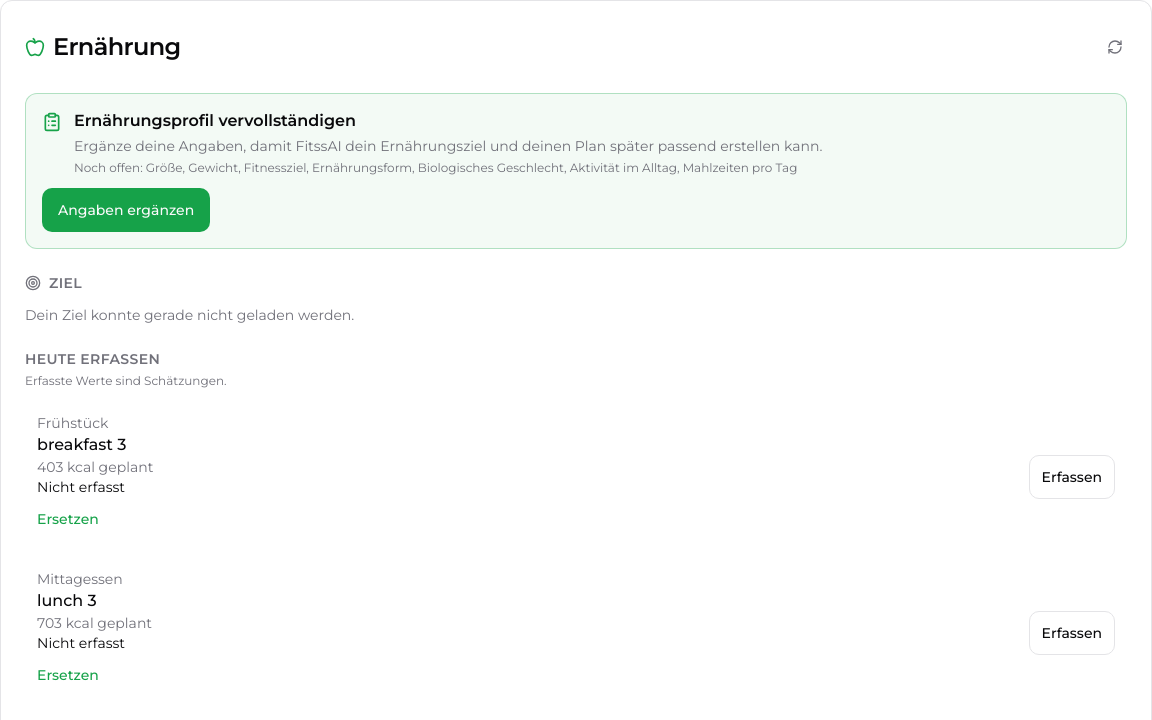
Test: the replacement surface › never shows a replacement the server did not store: the row follows the refetched head, not the answer
Click the button "Ersetzen" below "703 kcal geplant" at (68, 675), box [25,653,111,697]
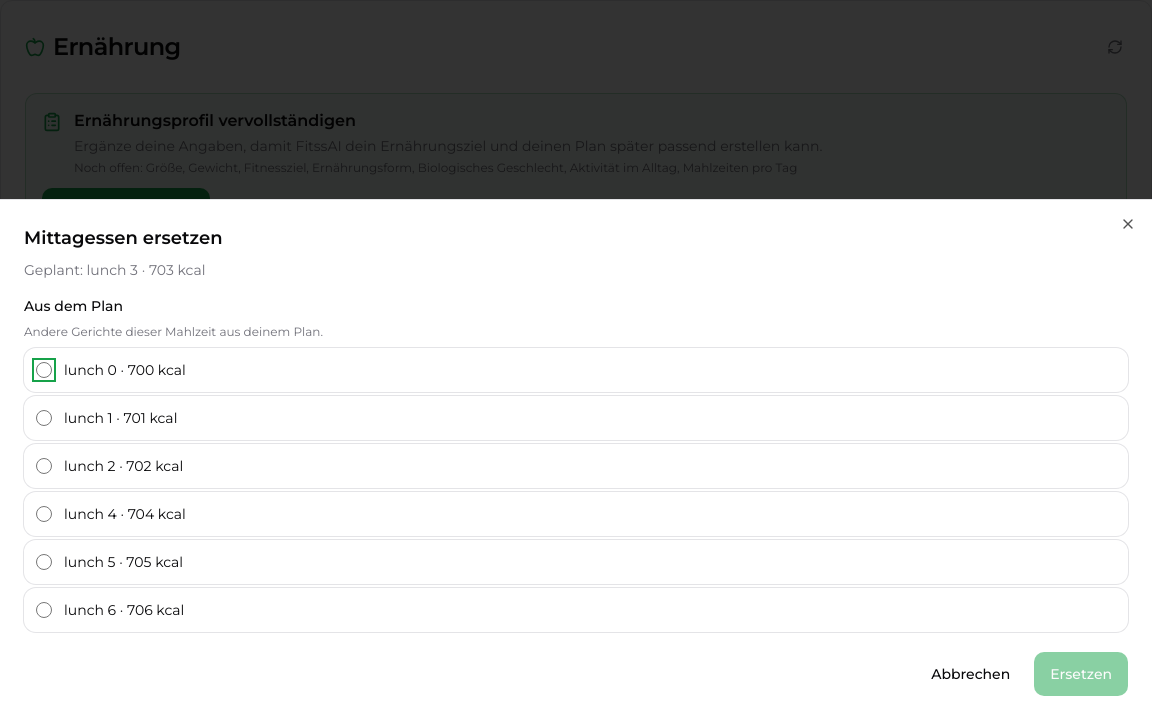
Click the radio button labelled "lunch 5 · 705 kcal" at (44, 562), box [36,554,52,570]
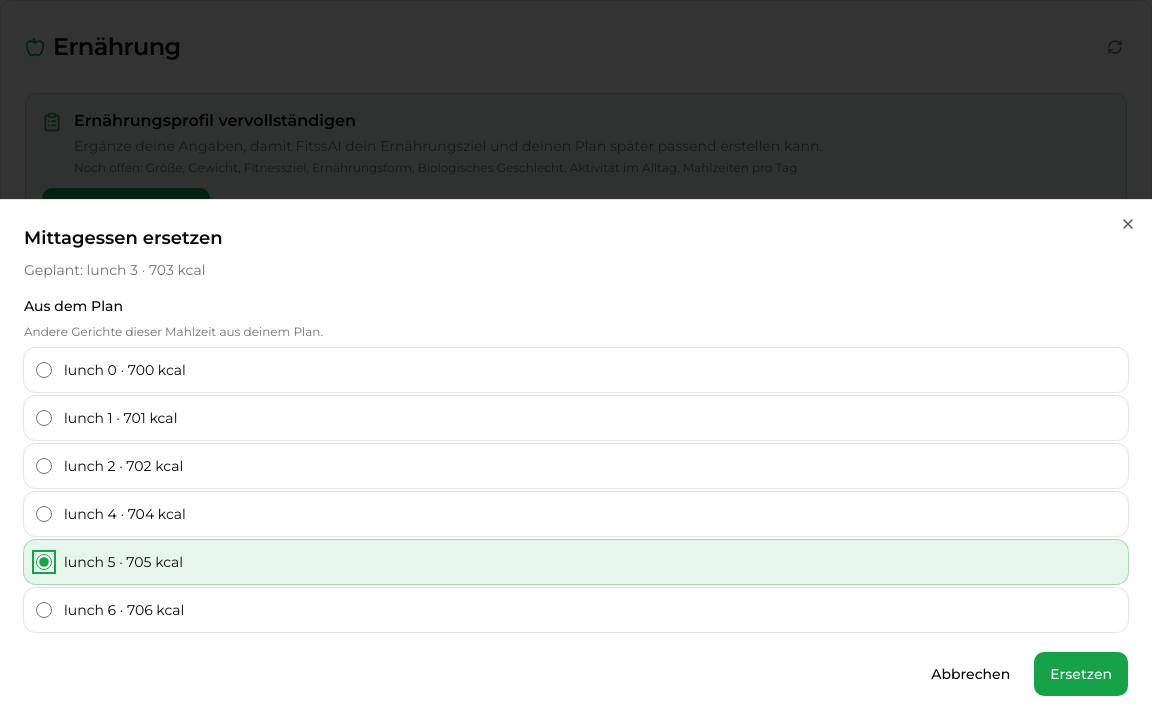
Click the button "Ersetzen" at (1081, 674), box [1034,652,1128,696]
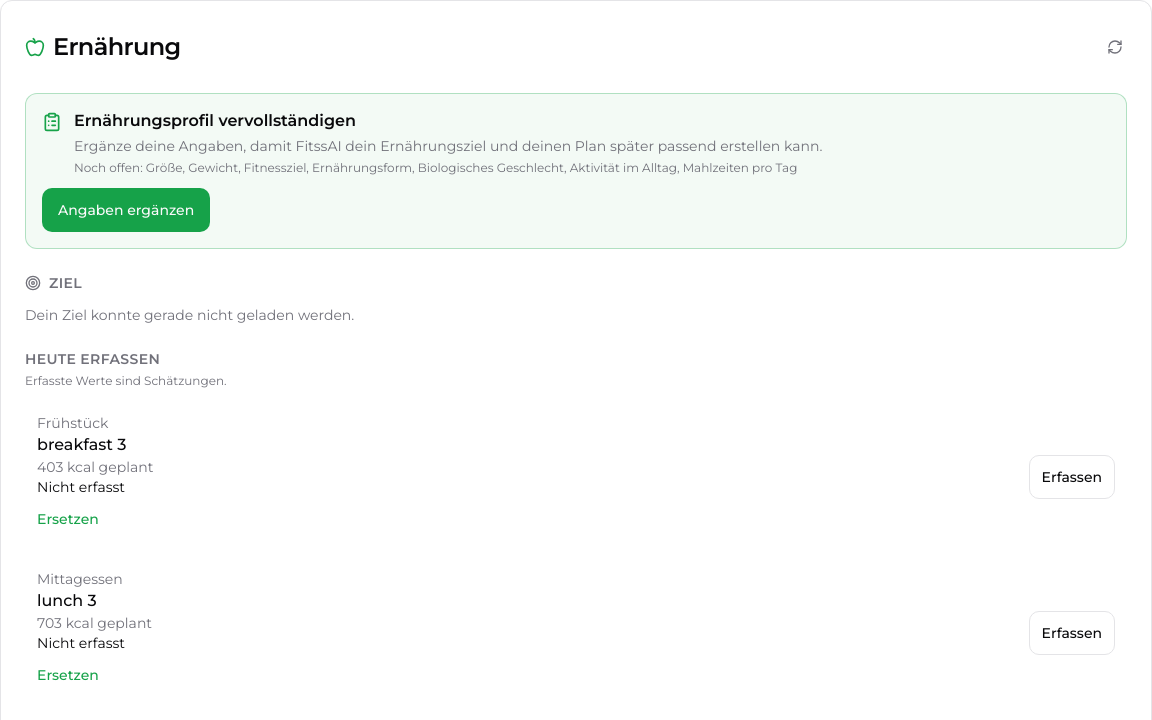
Expected: the list item with test id "nutrition-v2-slot" shows "lunch 3", [37,591,97,610]
Expected: the dialog is gone
